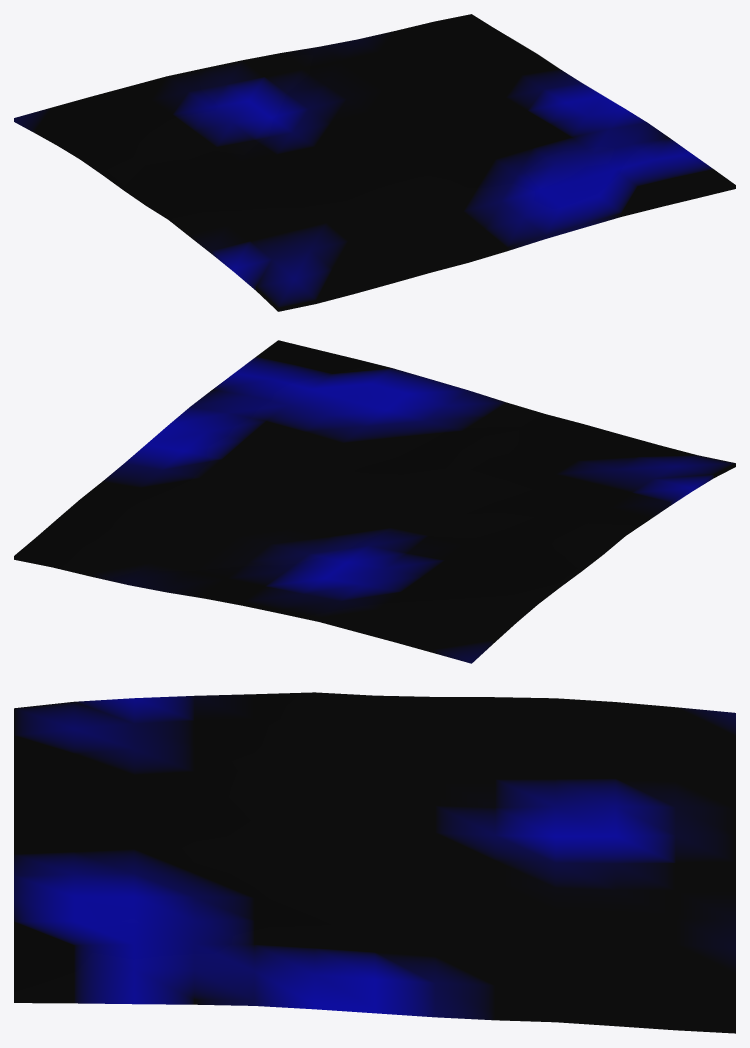
The model's file is coast_19_0.glb.
The picture shows the model from 3 angles, top to bottom: view 1: azimuth 30°, elevation 25°; view 2: azimuth 150°, elevation 25°; view 3: azimuth 270°, elevation 25°; orthographic projection. The views are drawn at different scales.
Parts seen in each view (by area): view 1: terrain; view 2: terrain; view 3: terrain.
Boxes of the visible parts, x1,y1,x2,y2 form: terrain: (14,14,735,311); terrain: (14,340,735,663); terrain: (14,692,735,1033).
Size of the model in its own units: 192 by 11.39 by 192.
